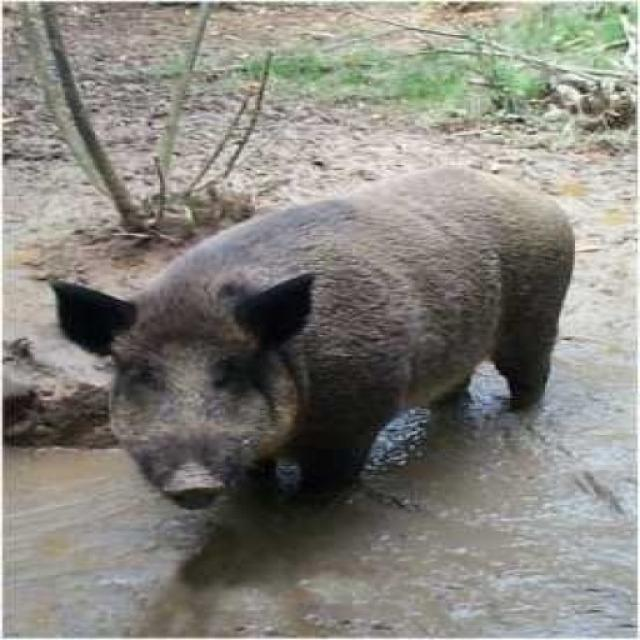pig: (38, 127, 594, 567)
